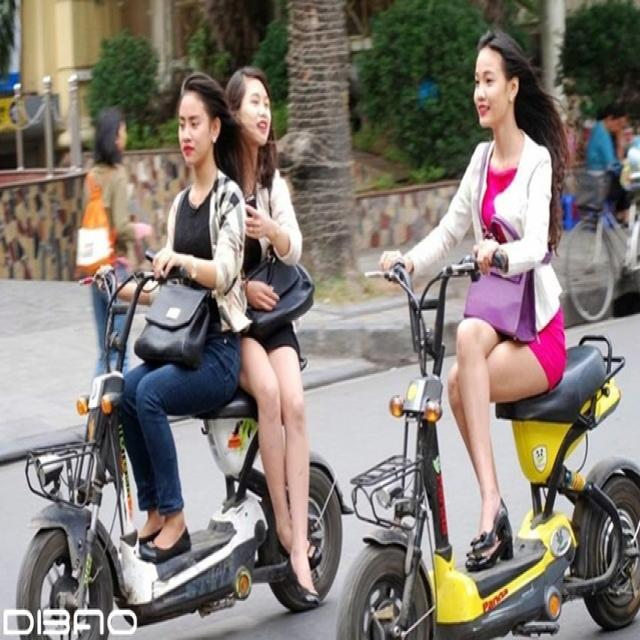no_helmet: (467, 20, 530, 137), (167, 60, 229, 174), (223, 61, 280, 158)
